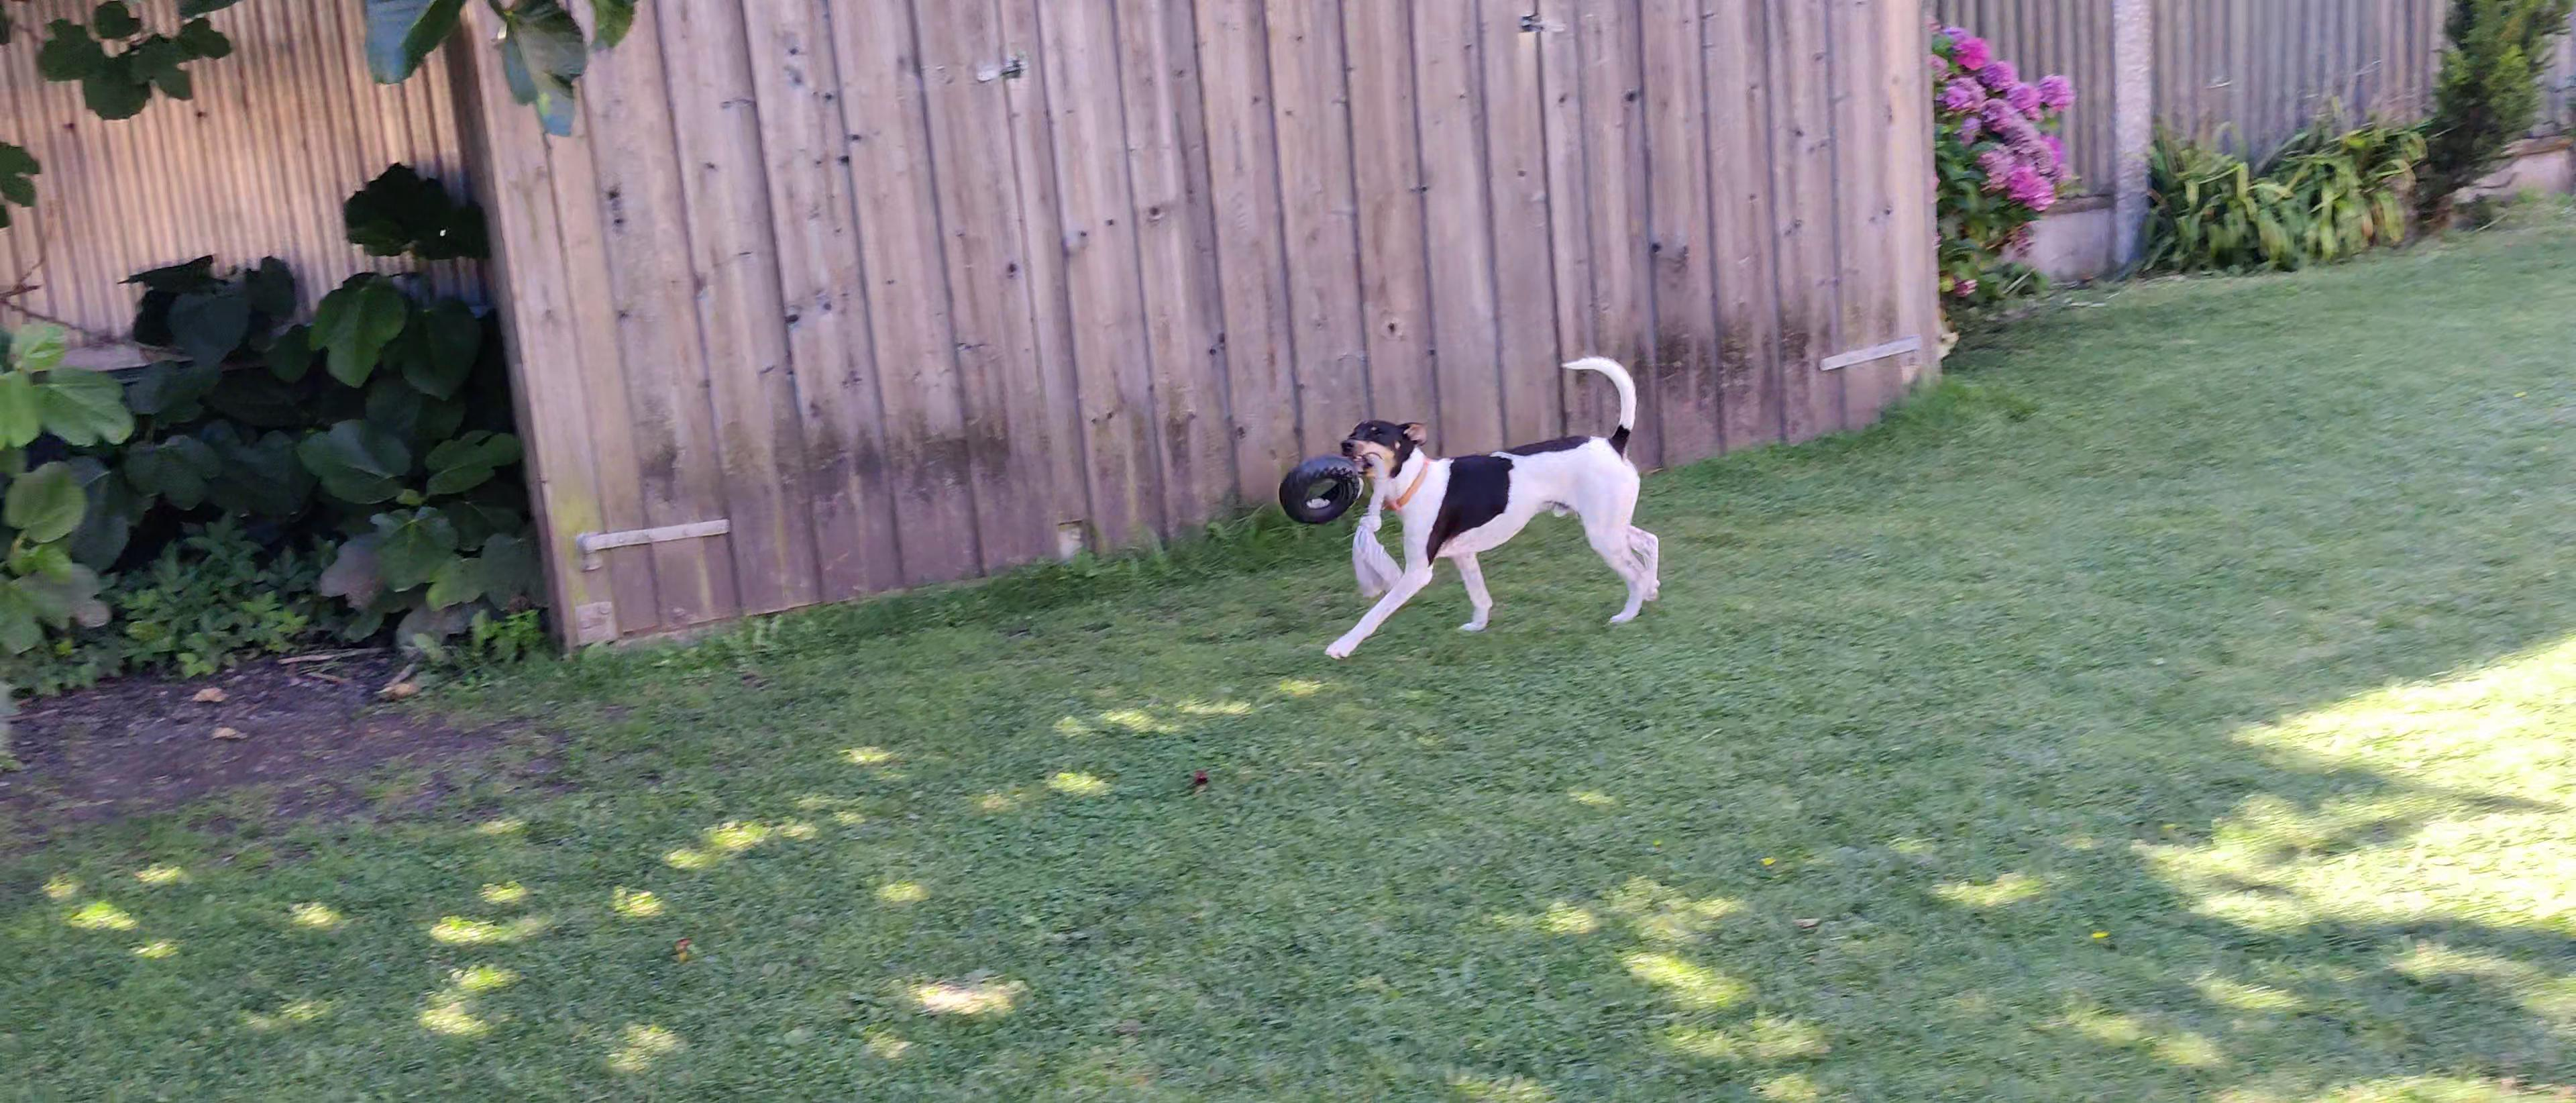Dog: (1309, 347, 1664, 664)
